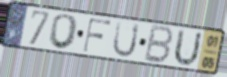7: (29, 9, 52, 48)
B: (142, 23, 176, 66)
F: (81, 17, 113, 54)
O: (47, 13, 80, 51)
U: (171, 27, 204, 68), (111, 20, 141, 59)
